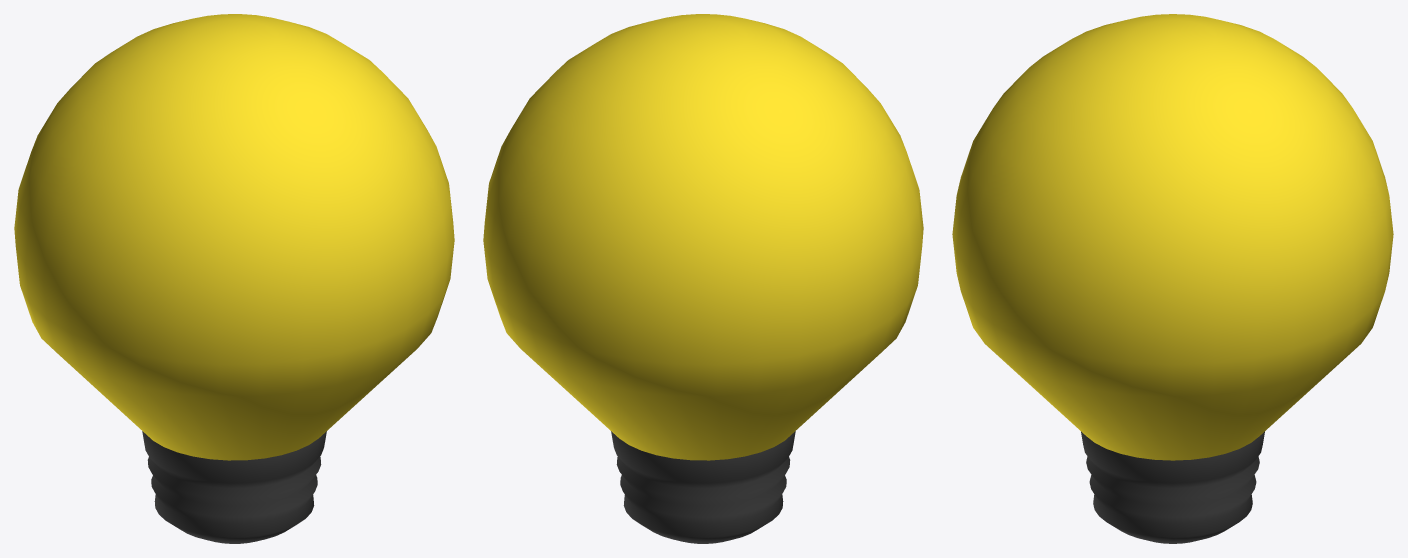
File: lamp.obj
3 renders of one model, left to right at view 1: azimuth 30°, elevation 25°; view 2: azimuth 150°, elevation 25°; view 3: azimuth 270°, elevation 25°, orthographic.
Parts seen in each view (by area): view 1: top_Sphere.002, bottom_Sphere; view 2: top_Sphere.002, bottom_Sphere; view 3: top_Sphere.002, bottom_Sphere.
Part boxes in pixels (left/top/right/bottom): top_Sphere.002: left=14, top=14, right=454, bottom=460; bottom_Sphere: left=142, top=431, right=326, bottom=543; top_Sphere.002: left=483, top=14, right=923, bottom=460; bottom_Sphere: left=611, top=431, right=795, bottom=543; top_Sphere.002: left=952, top=14, right=1393, bottom=460; bottom_Sphere: left=1081, top=431, right=1264, bottom=543.
Bounding box in the file's own units: 2 × 2.5 × 2.
